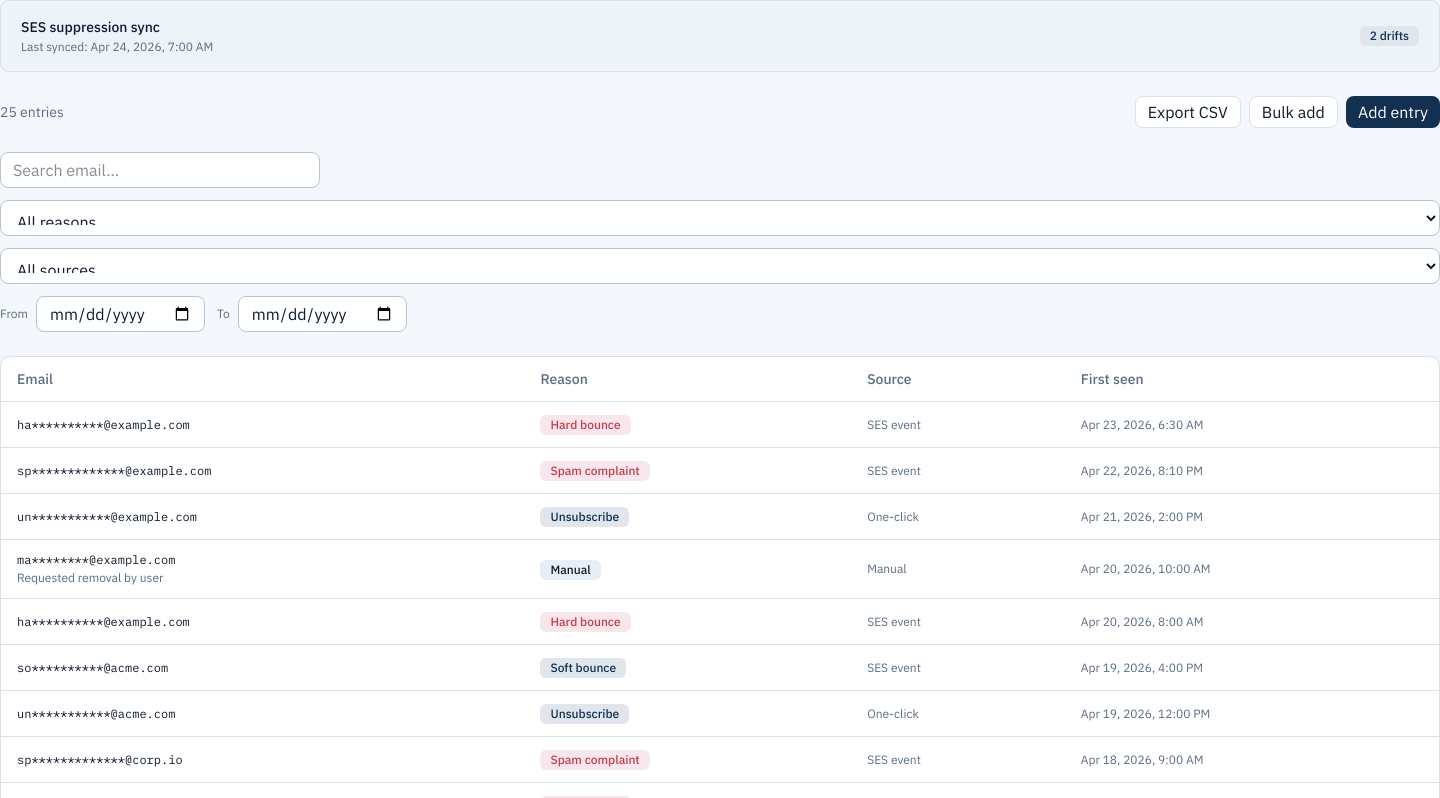
SuppressionManager › opens single-add dialog on click
Click the button "Add entry".
click(1393, 112)  # box [1346,96,1439,128]
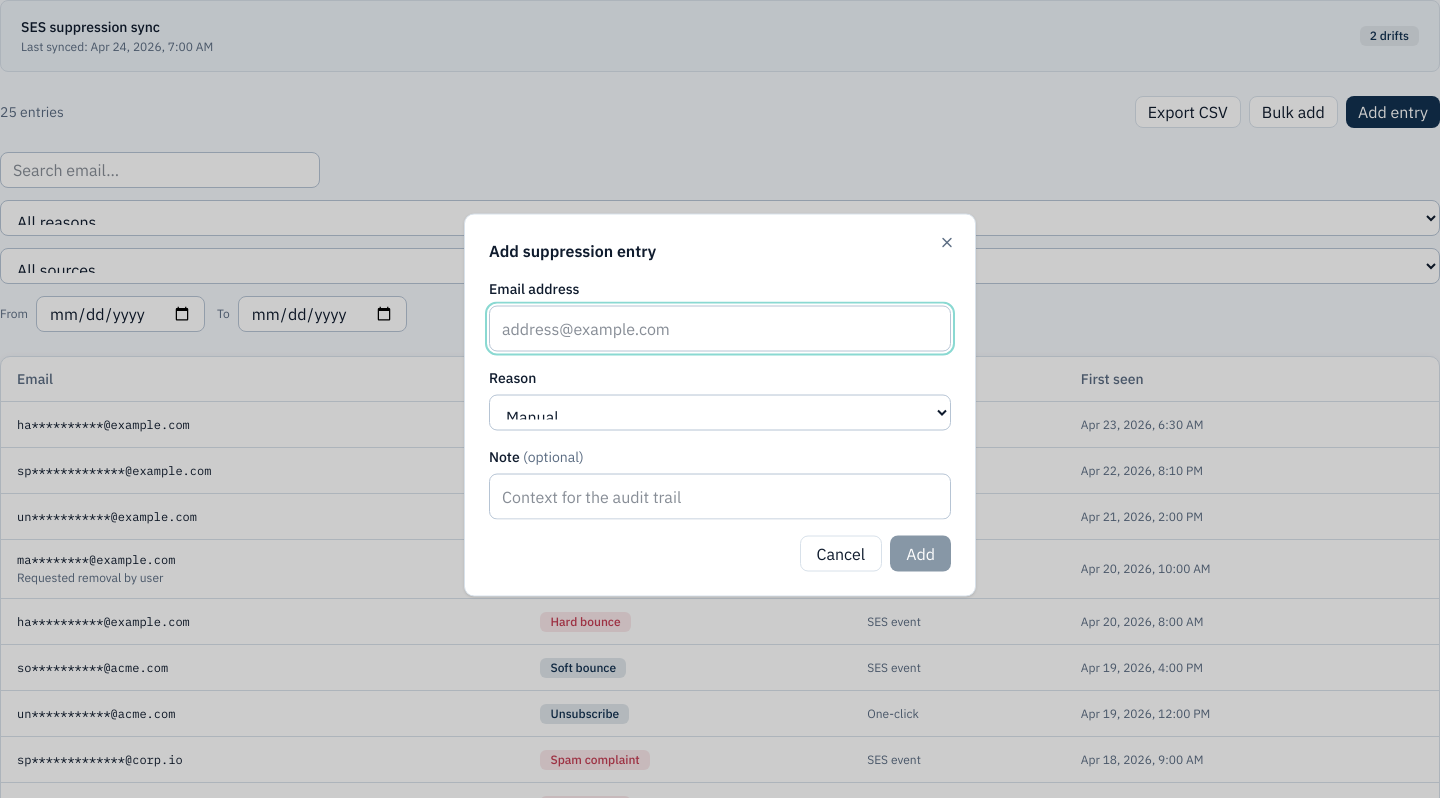
Expected: the dialog "Add suppression entry" is shown, [464,214,976,596]
